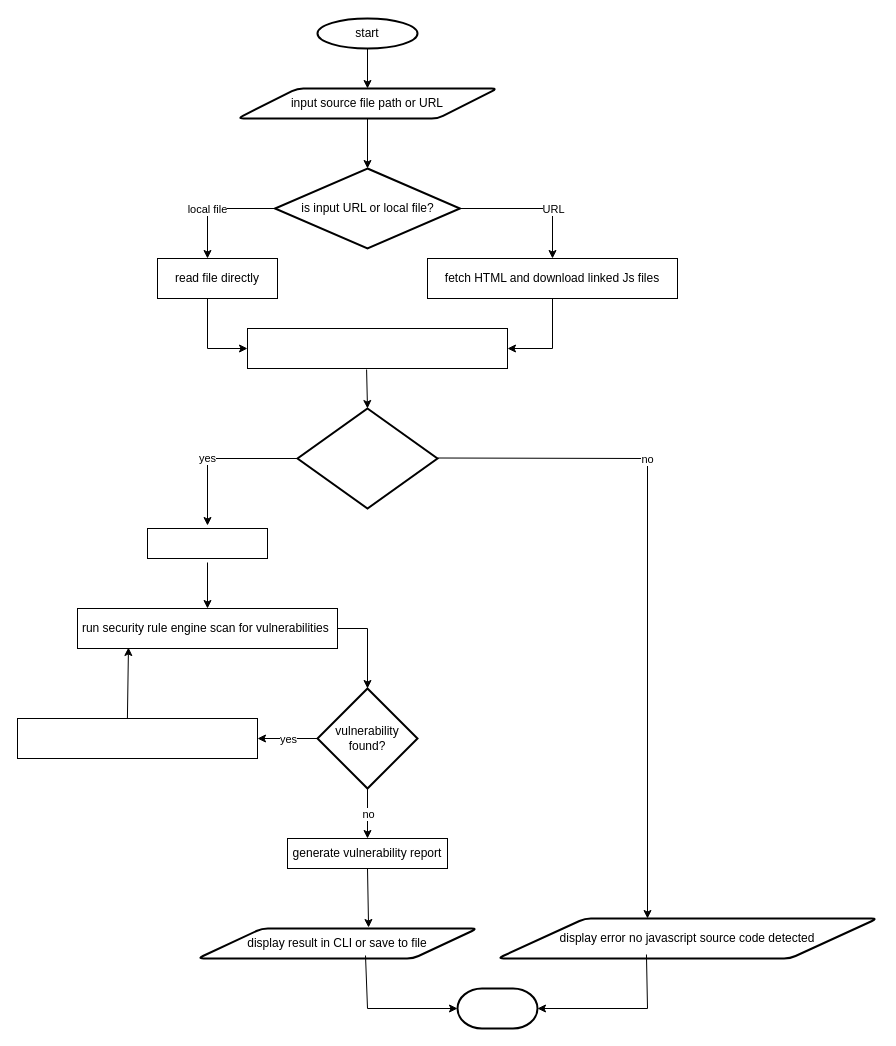
Some shapes in this 896 by 1046 pixel diagram are drawn without their labels. Each missing label, with the centre of its shape:
extract and clean javascript code: the point at 377,348
javascript code found?: the point at 367,458
map to CWE ID and record line number: the point at 137,738
parse code into AST: the point at 207,543
stop: the point at 497,1008
